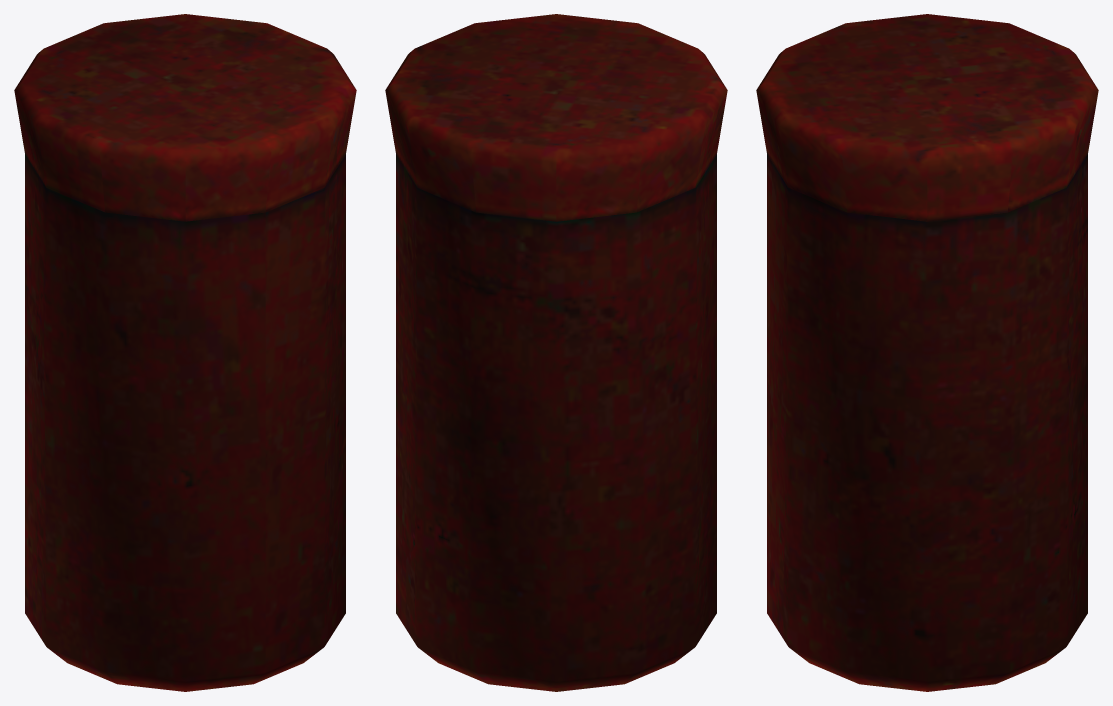
File: tinderbox_red.dae
3 renders of one model, left to right at view 1: azimuth 30°, elevation 25°; view 2: azimuth 150°, elevation 25°; view 3: azimuth 270°, elevation 25°, orthographic.
Parts seen in each view (by area): view 1: tinderbox_mesh; view 2: tinderbox_mesh; view 3: tinderbox_mesh.
Part boxes in pixels (box(x1,y1,x2,y2)): tinderbox_mesh: box(14, 14, 356, 691); tinderbox_mesh: box(385, 14, 727, 691); tinderbox_mesh: box(756, 14, 1098, 691).
Bounding box in the file's own units: 0.1034 × 0.1837 × 0.1034.
Materials: 1 (1 with a texture image).
